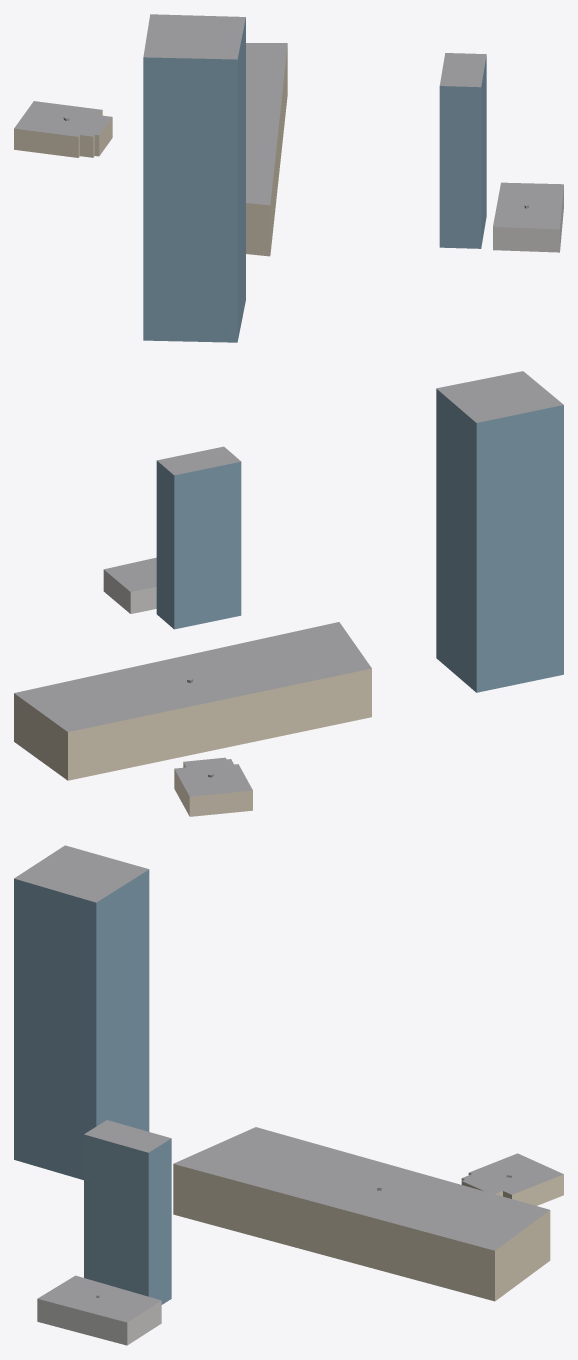
The model's file is building_1_4.glb.
The picture shows the model from 3 angles, top to bottom: view 1: azimuth 30°, elevation 25°; view 2: azimuth 150°, elevation 25°; view 3: azimuth 270°, elevation 25°; orthographic projection. The views are drawn at different scales.
Visible parts, largest first — view 1: glass_blue, roof, sandstone, concrete_light; view 2: glass_blue, roof, sandstone, concrete_light; view 3: glass_blue, roof, sandstone, concrete_light.
Part boxes in pixels (left/top/right/bottom): glass_blue: left=143, top=18, right=486, bottom=342; roof: left=14, top=14, right=563, bottom=229; sandstone: left=14, top=46, right=287, bottom=256; concrete_light: left=493, top=186, right=563, bottom=252; glass_blue: left=156, top=389, right=563, bottom=692; roof: left=14, top=371, right=563, bottom=796; sandstone: left=14, top=668, right=371, bottom=816; concrete_light: left=103, top=569, right=156, bottom=613; glass_blue: left=14, top=869, right=171, bottom=1304; roof: left=14, top=845, right=563, bottom=1322; sandstone: left=173, top=1164, right=563, bottom=1301; concrete_light: left=37, top=1299, right=161, bottom=1345.
Bounding box in the file's own units: 278 × 166 × 295.
